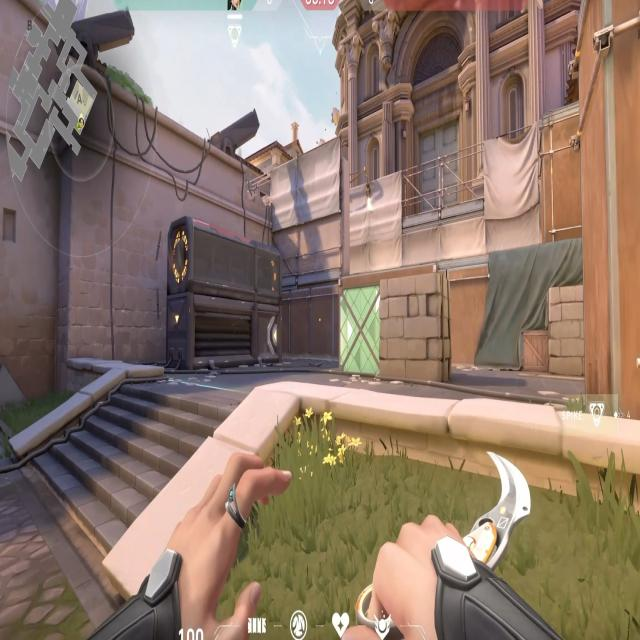A_Hell: (271, 136, 338, 293)
A_Site_Box: (340, 272, 455, 388)
